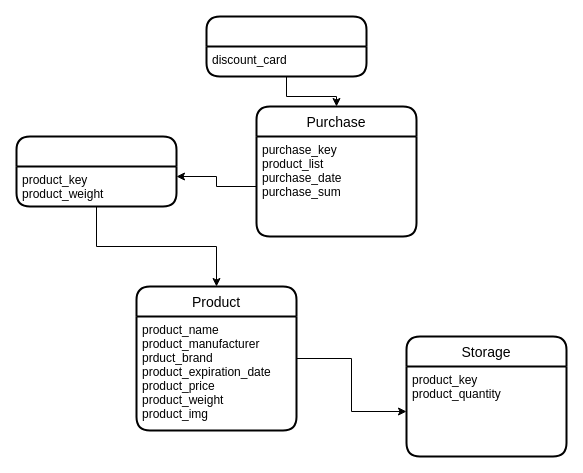
This 583x473 diagram has some shape labels left out. The box of each missing label's shape, as (x1, y1, x2, y2) in pixels:
Buyer: (205, 15, 367, 77)
Purschase list: (15, 135, 177, 207)
